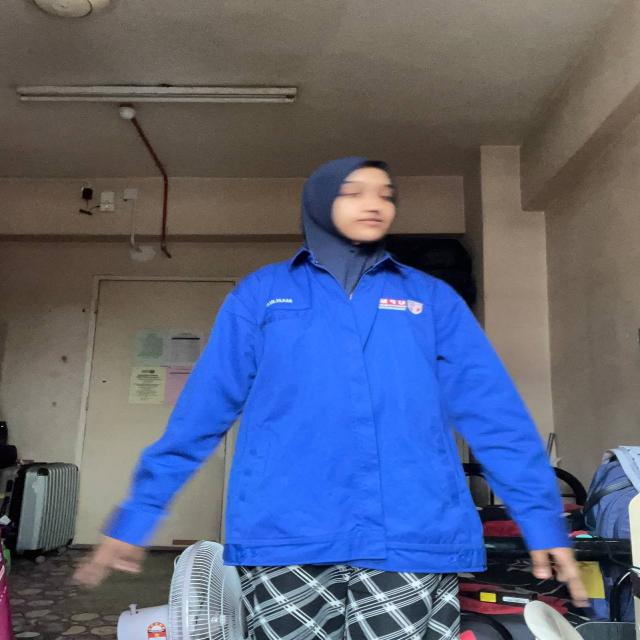person_with_labcoat: (76, 157, 587, 640)
